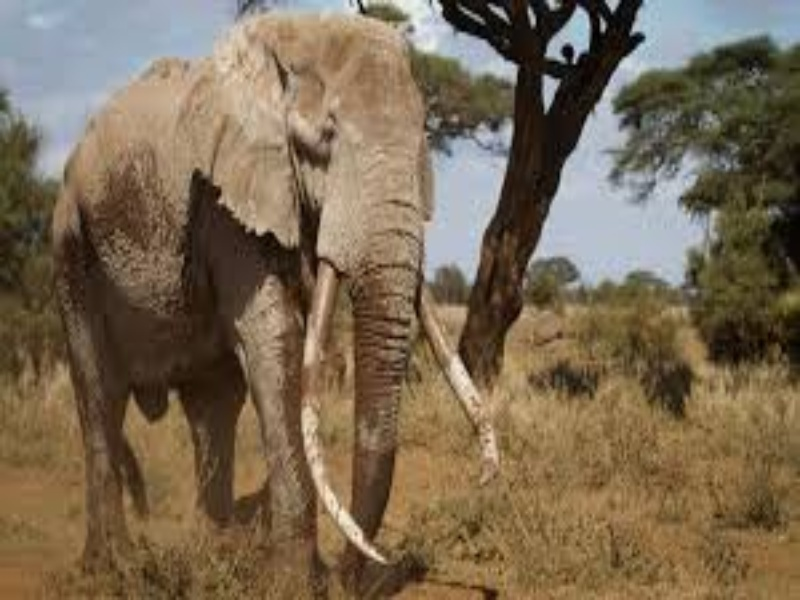elephant: (31, 9, 542, 589)
